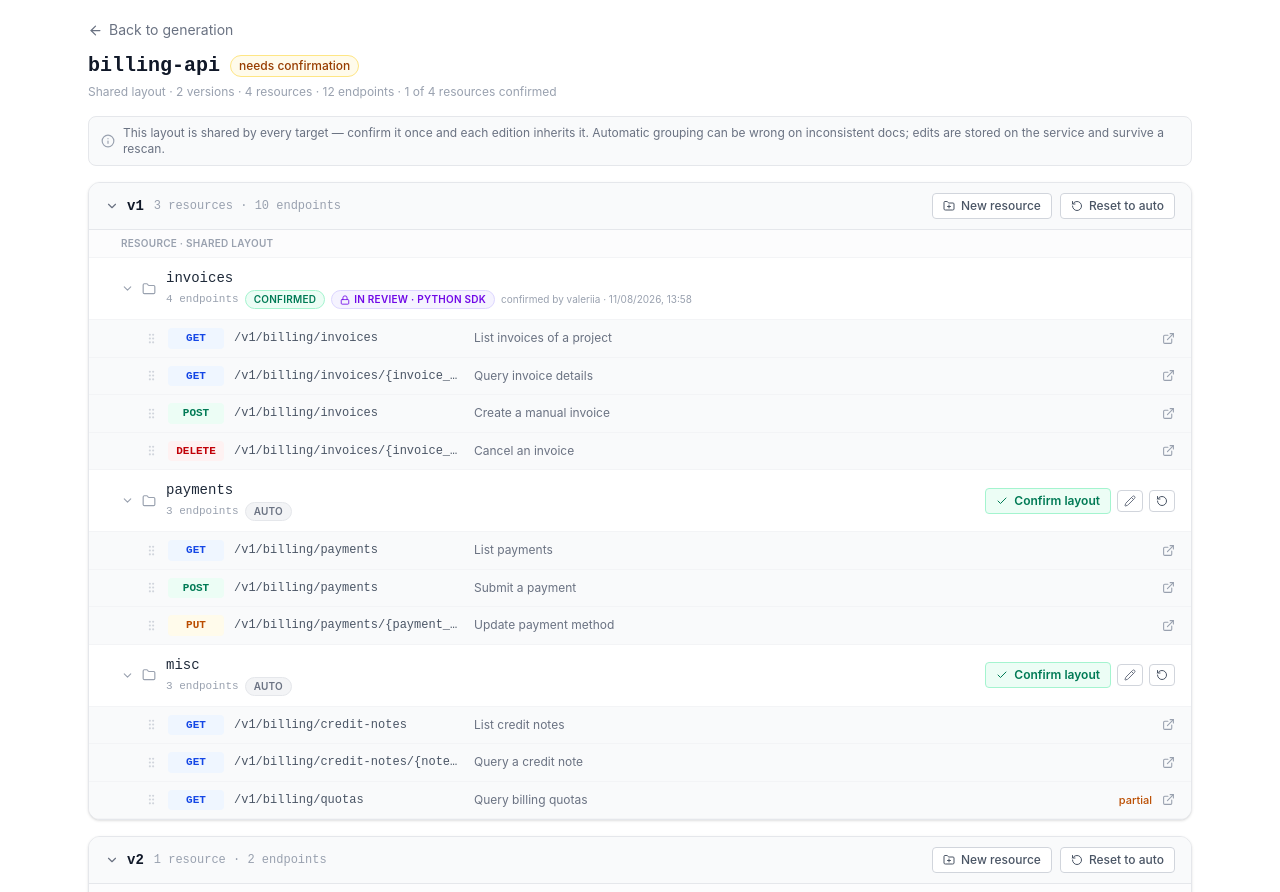
Scenario: the billing-api layout on the in-memory mock › confirms a resource with the button, recording who and when
This screenshot has width=1280, height=892.
Expected: the heading "billing-api" is shown, [88,52,220,80]
Click the 1st button "Confirm layout". click: (1048, 500)
box: [985,488,1111,514]
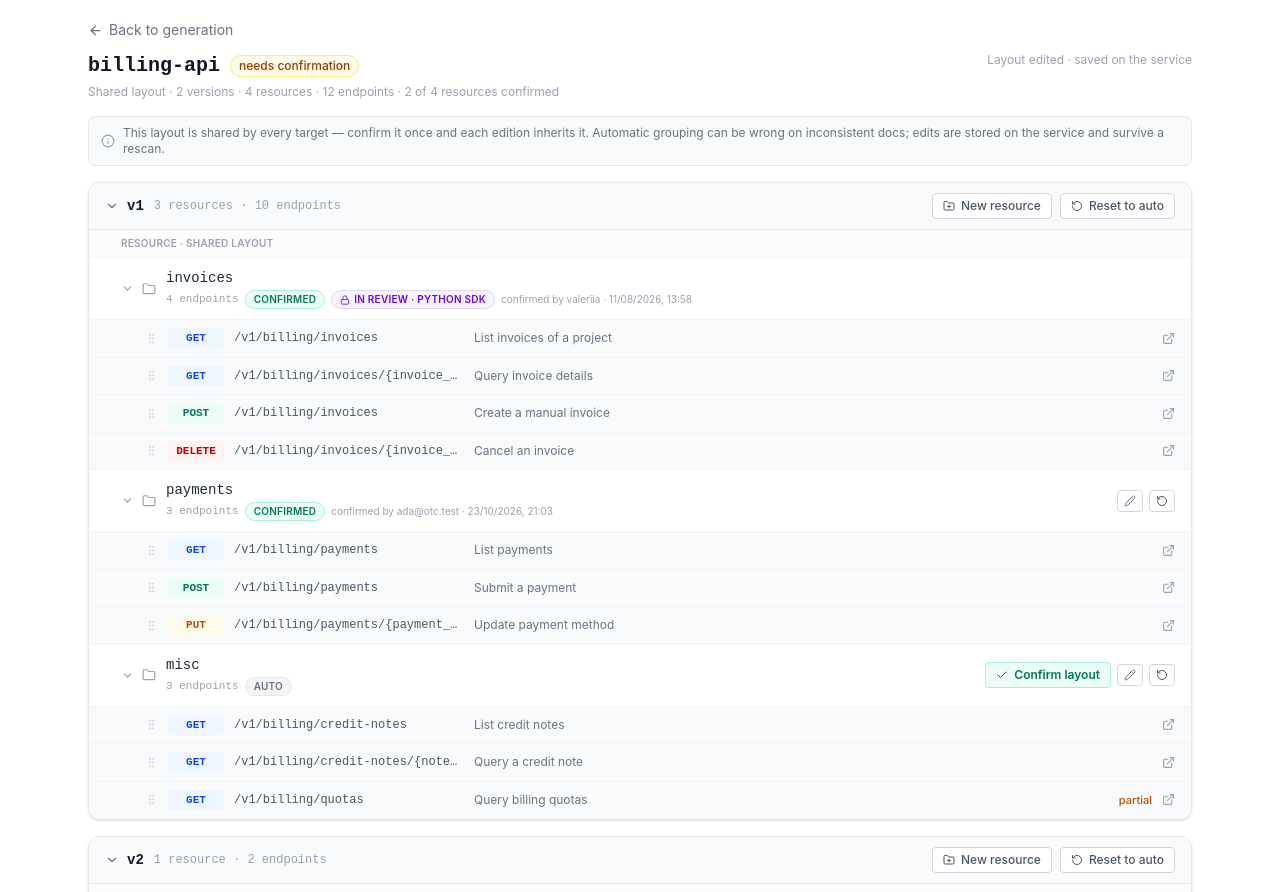
Expected: the 2nd text "confirmed" is shown, [245,502,325,521]
Expected: the text "confirmed by ada@otc.test · 23/10/2026, 21:03" is shown, [331,504,553,519]
Expected: the text "· 2 of 4 resources confirmed" is shown, [88,84,559,99]
